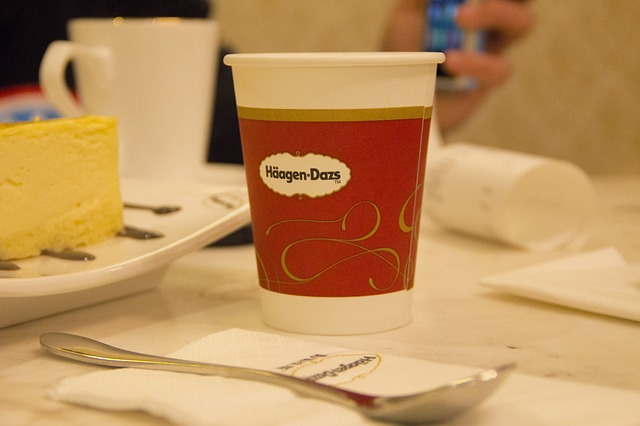cup: (220, 45, 456, 337)
